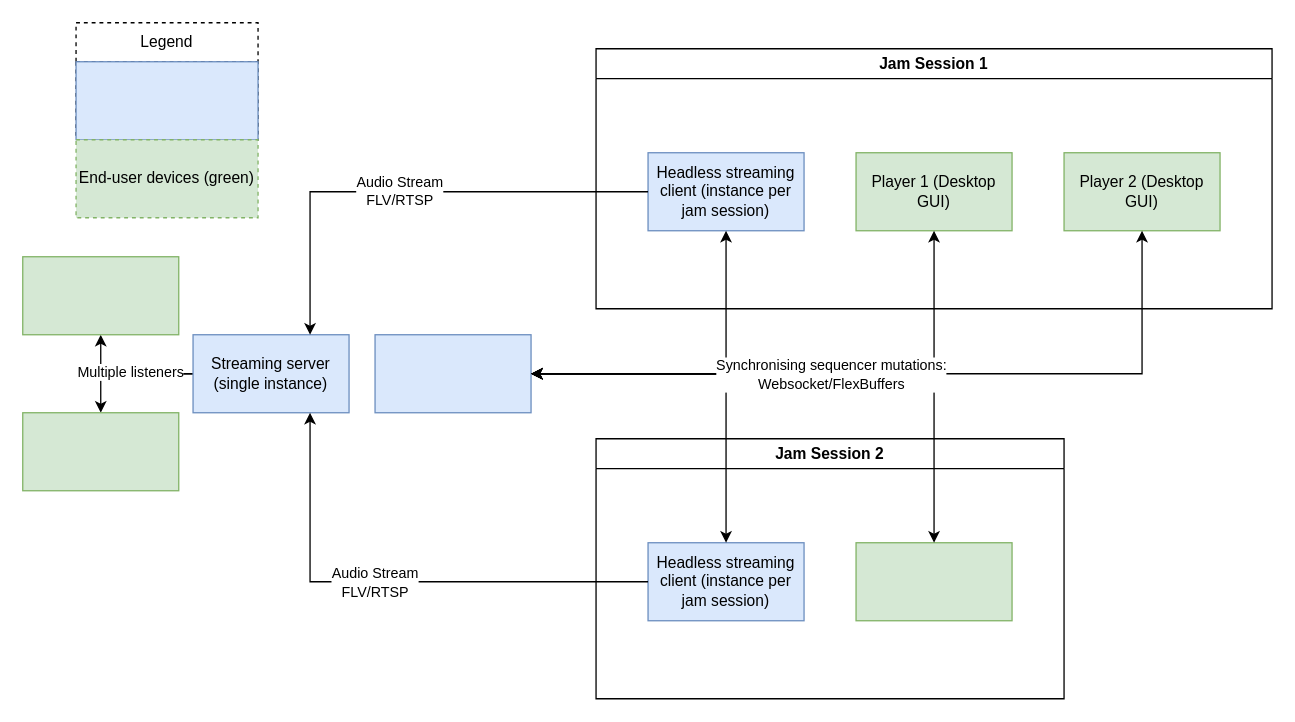
Some shapes in this 1295 by 722 pixel diagram are drawn without their labels. The centre of each missing label's shape, as x and y in pixels:
"Cloud-based components (blue)" goes at pixel 166 100.
"Listener 1 (Web browser)" goes at pixel 100 295.
"Listener 2 (Web browser)" goes at pixel 100 451.
"Player 3 (Desktop GUI)" goes at pixel 933 581.
"Synchronisation Server (single instance)" goes at pixel 452 373.
